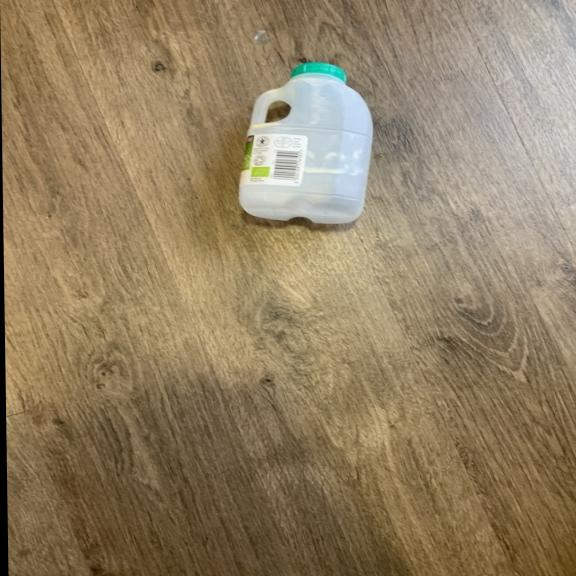Plastik: (228, 59, 378, 222)
